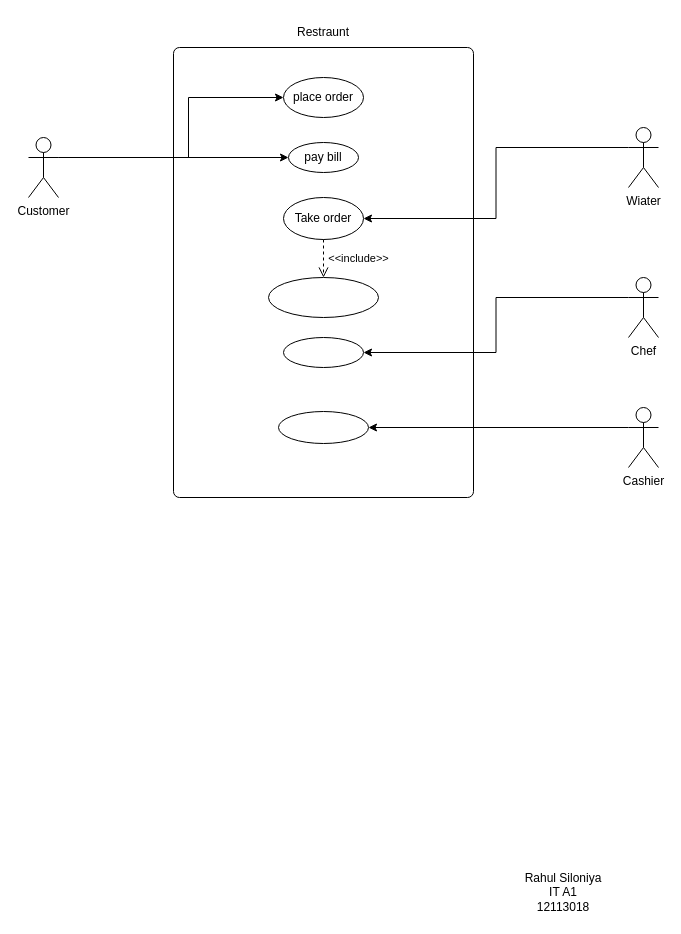
Image size: 681x934. Some labels were removed from this diagram. The shapes that lost their labels are listed below. From the top down, each one's box as (x1, y1, x2, y2) in pixels, then its label:
(268, 276, 378, 318): take order to chef
(282, 336, 364, 368): cooks food
(278, 410, 368, 444): settles bill
